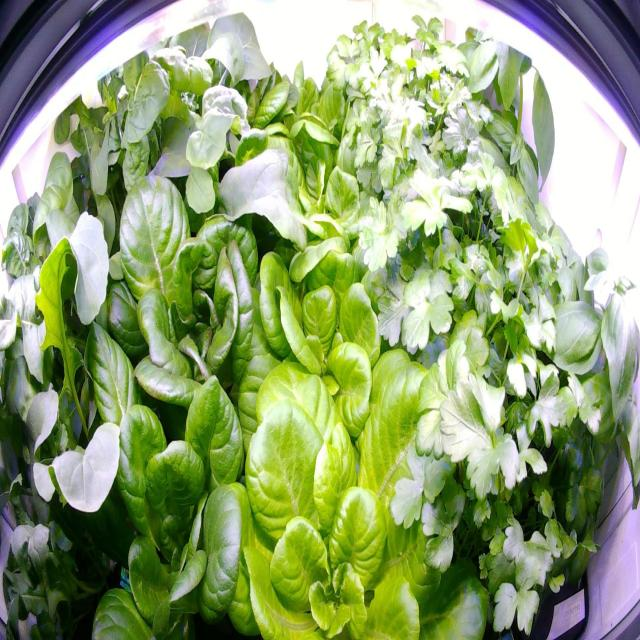Ready: (189, 321, 492, 636), (68, 160, 292, 458), (73, 363, 302, 638), (222, 202, 400, 428), (232, 116, 382, 280), (242, 36, 359, 151)
